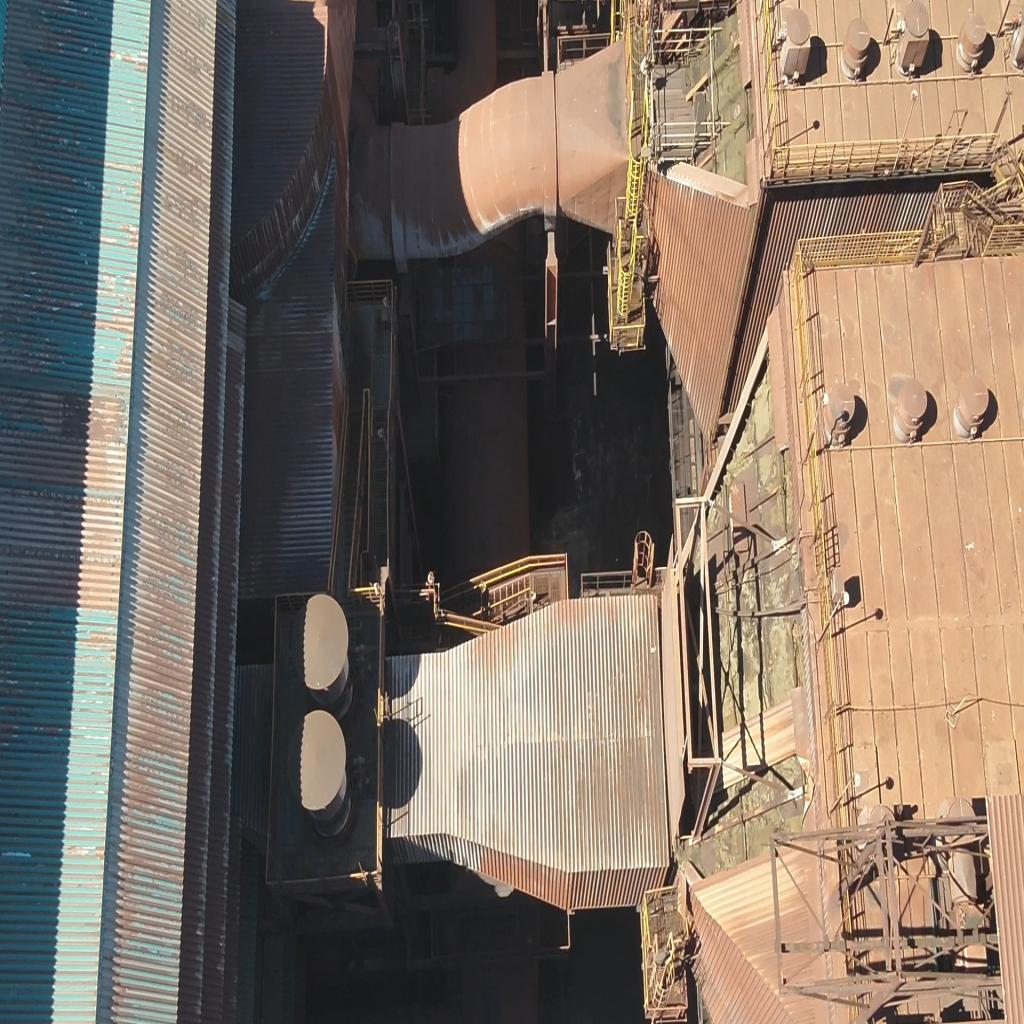Failures: (702, 354, 817, 849), (668, 8, 756, 183)
